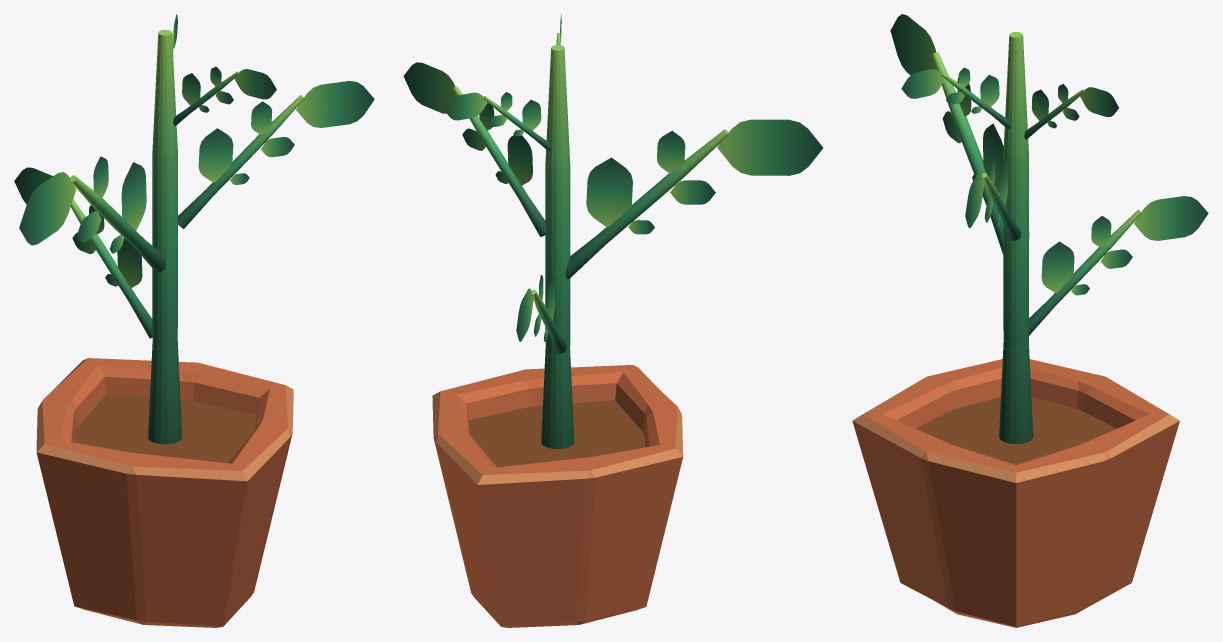
File: Props_Plant_01.fbx
3 views of the same model, side by side, from view 1: azimuth 30°, elevation 25°; view 2: azimuth 150°, elevation 25°; view 3: azimuth 270°, elevation 25° (orthographic). The views are drawn at different scales.
Parts seen in each view (by area): view 1: Props_Plant_01; view 2: Props_Plant_01; view 3: Props_Plant_01.
Part boxes in pixels (x1=…): Props_Plant_01: x1=14, y1=14, x2=374, y2=627; Props_Plant_01: x1=403, y1=14, x2=823, y2=627; Props_Plant_01: x1=852, y1=14, x2=1208, y2=627.
Size of the model in its own units: 80.41 by 109 by 63.48.
